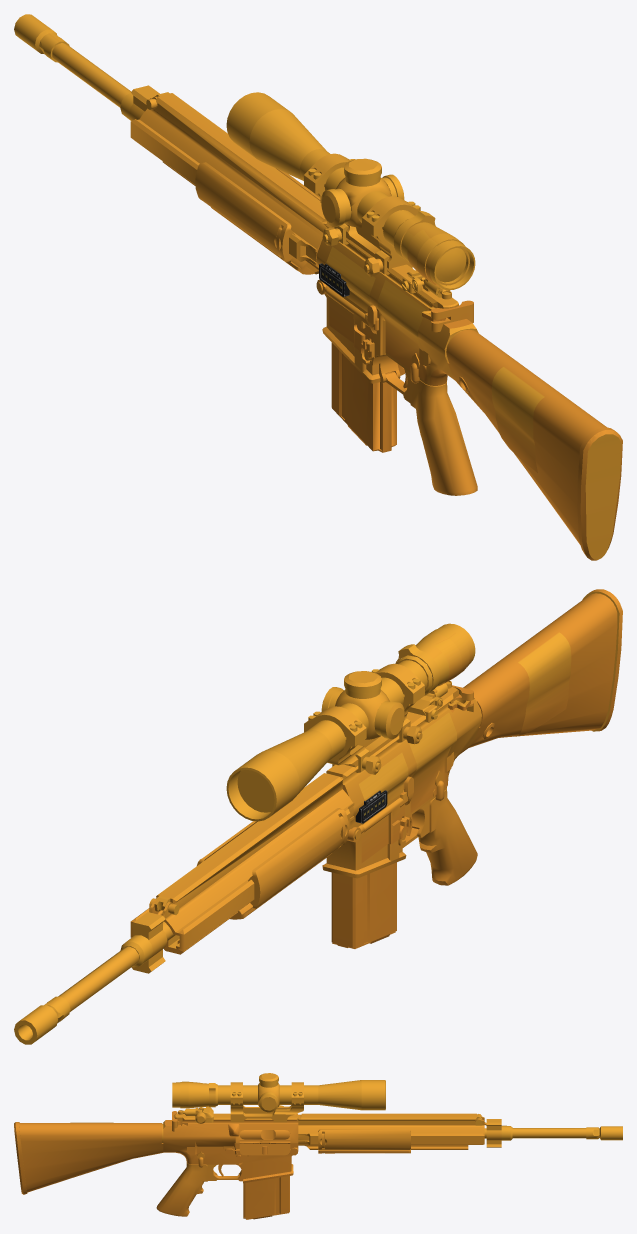
3 views of the same model, one above another, from view 1: azimuth 30°, elevation 25°; view 2: azimuth 150°, elevation 25°; view 3: azimuth 270°, elevation 25° (orthographic). The views are drawn at different scales.
Parts seen in each view (by area): view 1: LOD_Template.001, Magazine1.001, Sticker4, Sticker1, Sticker2, Sticker3, Gunlock1.001; view 2: LOD_Template.001, Magazine1.001, Sticker4, Sticker1, Sticker2, Sticker3; view 3: LOD_Template.001, Magazine1.001.
Boxes of the visible parts, left/top/right/bottom form: LOD_Template.001: left=14, top=14, right=622, bottom=560; Magazine1.001: left=331, top=343, right=396, bottom=452; Sticker4: left=491, top=367, right=544, bottom=473; Sticker1: left=326, top=246, right=375, bottom=357; Sticker2: left=377, top=279, right=427, bottom=381; Sticker3: left=407, top=229, right=440, bottom=286; Gunlock1.001: left=422, top=300, right=473, bottom=332; LOD_Template.001: left=14, top=589, right=622, bottom=1044; Magazine1.001: left=331, top=862, right=396, bottom=948; Sticker4: left=516, top=632, right=571, bottom=736; Sticker1: left=359, top=752, right=409, bottom=862; Sticker2: left=409, top=712, right=456, bottom=812; Sticker3: left=434, top=632, right=472, bottom=686; LOD_Template.001: left=14, top=1073, right=622, bottom=1216; Magazine1.001: left=243, top=1176, right=289, bottom=1219.
Bounding box in the file's own units: 0.0697 × 0.2624 × 1.03.
6 materials, 6 textured.
